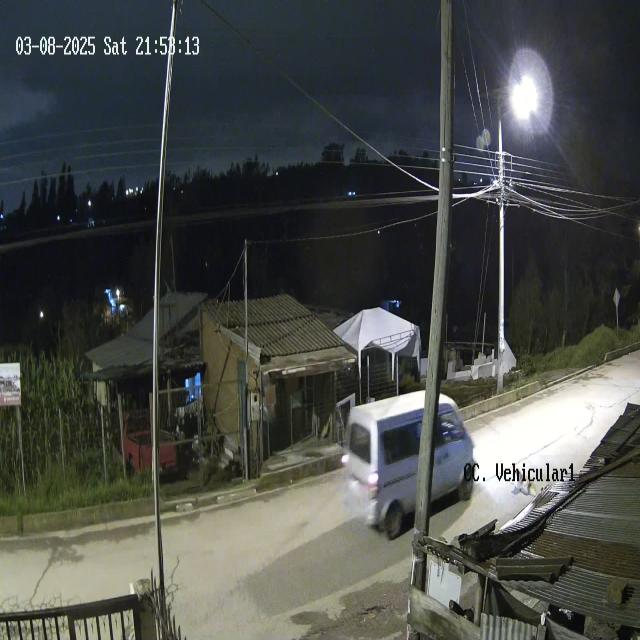BUS: (344, 390, 476, 528)
